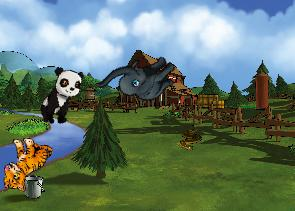elephant: (94, 34, 183, 123)
panda: (36, 63, 86, 130)
tiger: (0, 134, 53, 194)
